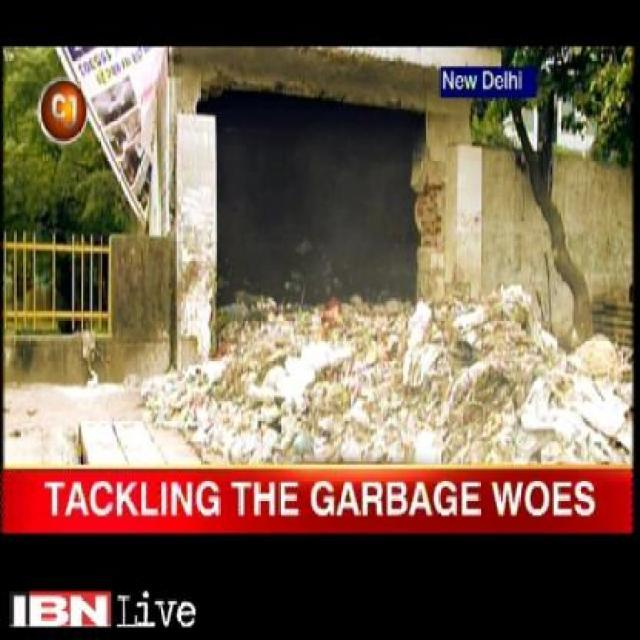garbage: (155, 288, 640, 465)
